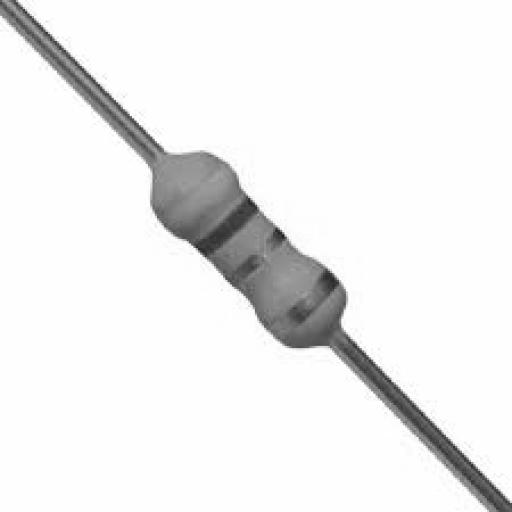RESISTOR: (117, 113, 414, 365)
